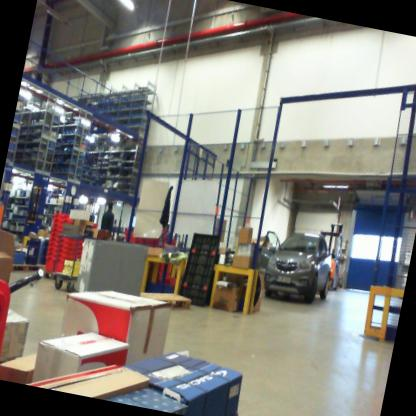forklift: (309, 220, 348, 294), (0, 165, 18, 241)
pallet: (141, 283, 192, 313), (10, 252, 44, 278)
small_load_carrier: (43, 253, 68, 276)
